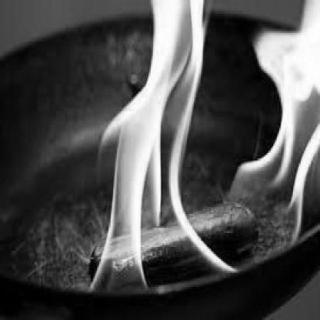Fire: (75, 3, 318, 293)
